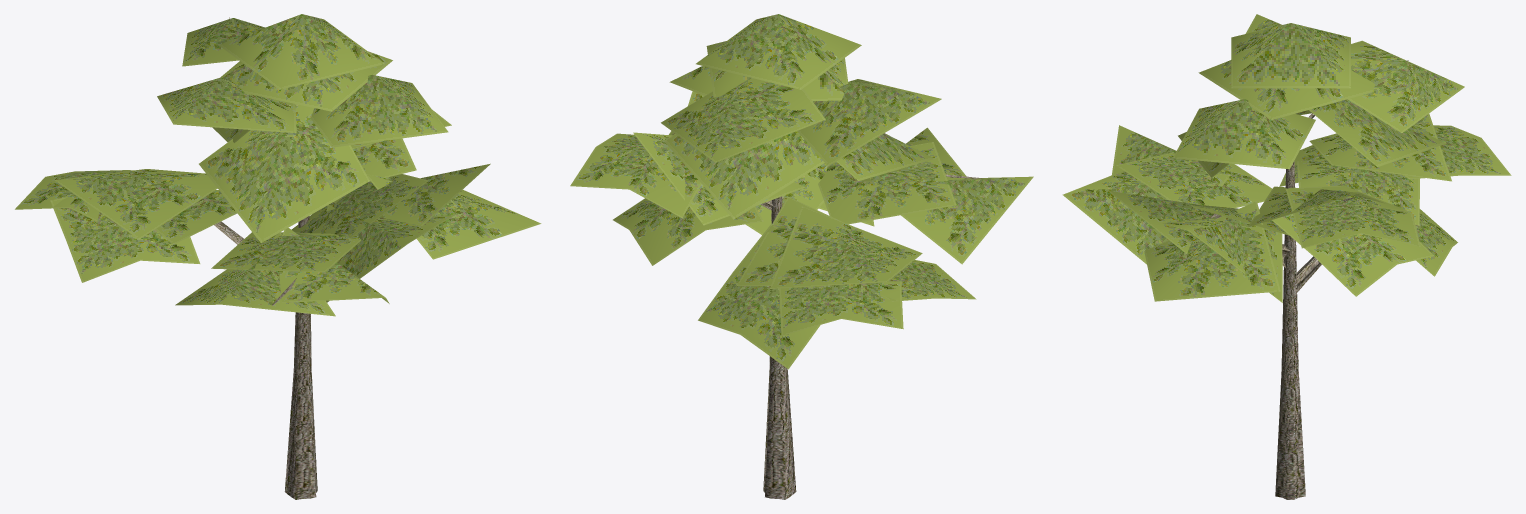
File: tree_med.fbx
3 views of the same model, side by side, from view 1: azimuth 30°, elevation 25°; view 2: azimuth 150°, elevation 25°; view 3: azimuth 270°, elevation 25° (orthographic).
Parts seen in each view (by area): view 1: tree_med; view 2: tree_med; view 3: tree_med.
Part boxes in pixels (box(x1,y1,x2,y2)): tree_med: box(15, 14, 541, 499); tree_med: box(570, 14, 1033, 499); tree_med: box(1062, 14, 1511, 499).
Bounding box in the file's own units: 718 × 866 × 749.
